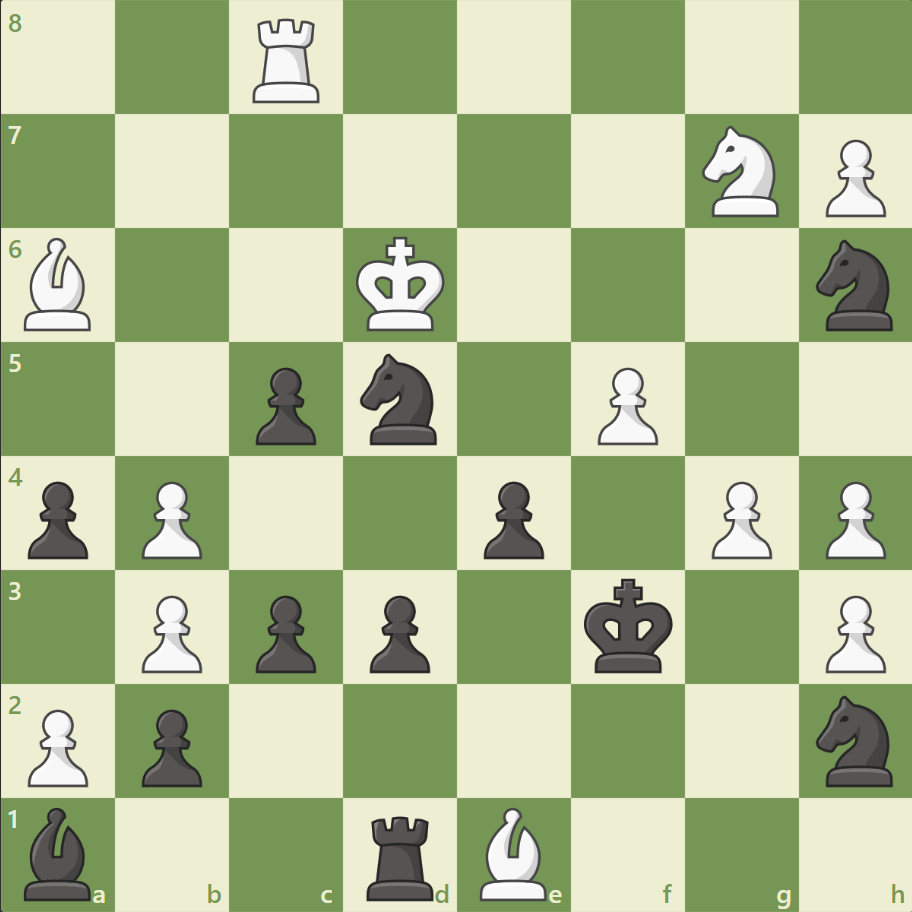B: (17, 233, 101, 336), (471, 801, 555, 904)
K: (351, 231, 451, 339)
N: (692, 121, 789, 223)
P: (133, 473, 208, 564), (701, 473, 776, 564), (133, 586, 208, 677), (20, 700, 95, 791), (815, 132, 889, 223), (588, 359, 662, 450), (815, 473, 889, 564), (815, 586, 889, 677)
R: (246, 12, 329, 109)
b: (17, 801, 101, 904)
k: (579, 571, 679, 679)
n: (351, 348, 449, 450), (806, 234, 903, 337), (806, 688, 903, 791)
p: (247, 359, 322, 450), (20, 473, 95, 564), (474, 473, 549, 564), (247, 586, 322, 677), (133, 700, 208, 791), (361, 586, 435, 677)
r: (360, 806, 442, 904)
